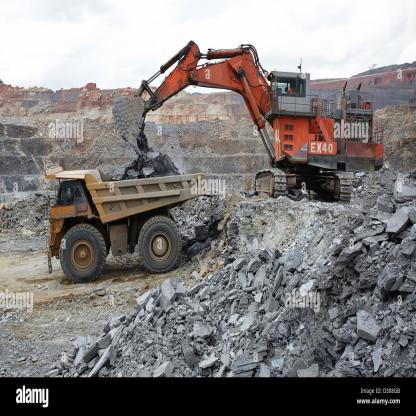dump_truck: (42, 153, 202, 290)
excavator: (114, 33, 387, 203)
